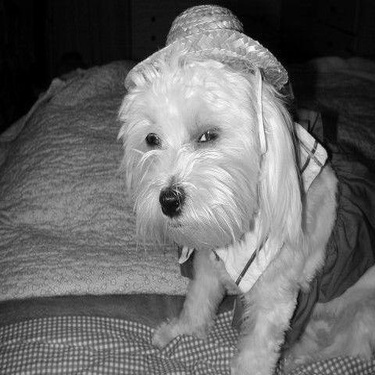dog: (114, 1, 372, 373)
